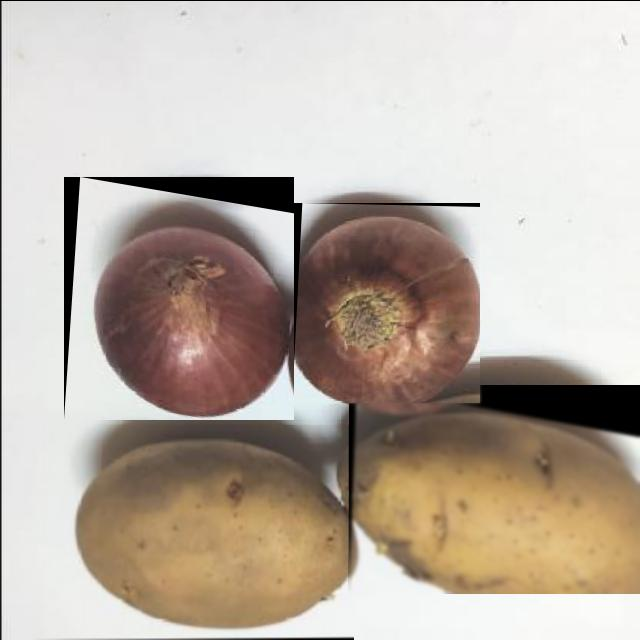onion: (64, 176, 294, 419), (292, 202, 480, 402)
potato: (28, 424, 354, 639), (349, 384, 640, 593)
